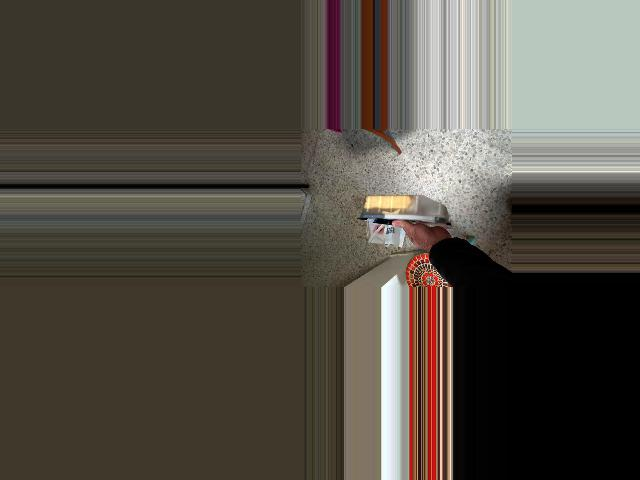cheese: (367, 171, 466, 267)
